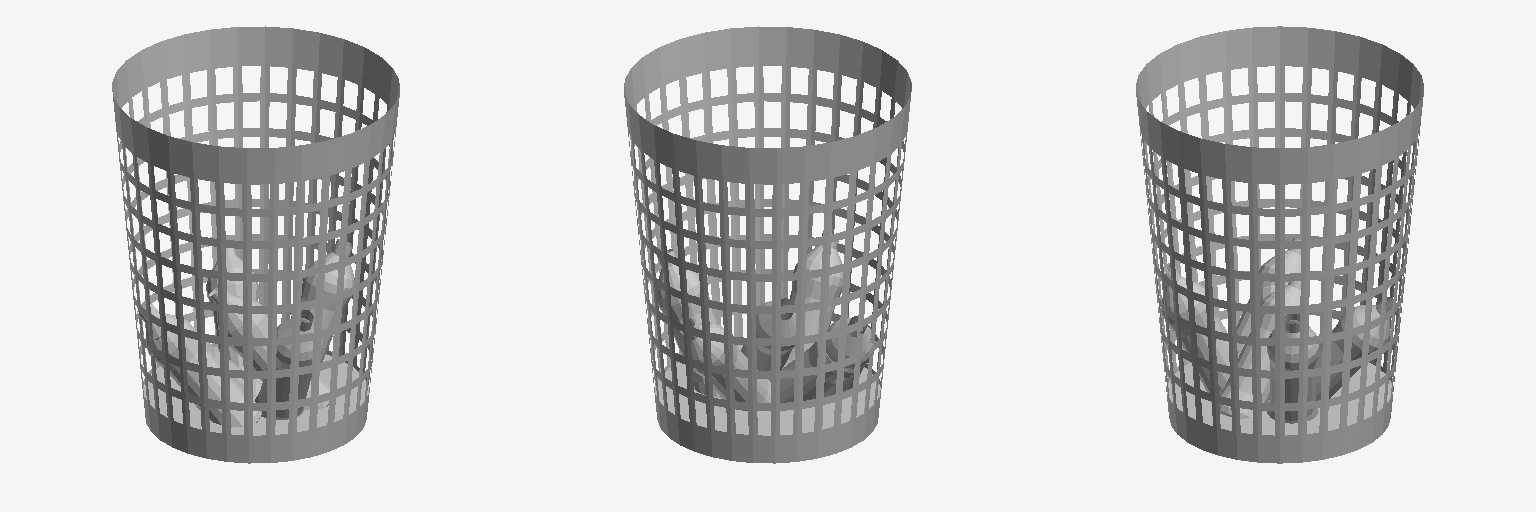
File: DustbinWithCan_000048.obj
The picture shows the model from 3 angles: view 1: azimuth 30°, elevation 25°; view 2: azimuth 150°, elevation 25°; view 3: azimuth 270°, elevation 25°; orthographic projection.
Visible parts, largest first — view 1: Cylinder, Plane.005, Plane.001, Plane.004, Plane.003, Plane.002; view 2: Cylinder, Plane.002, Plane.001, Plane.003, Plane.004, Plane.006, Plane.005; view 3: Cylinder, Plane.001, Plane.004, Plane.003, Plane.002, Plane.005.
Part boxes in pixels (x1,y1,x2,y2): Cylinder: (112,26,399,463); Plane.005: (137,302,261,426); Plane.001: (255,310,322,419); Plane.004: (209,287,329,409); Plane.003: (291,239,354,362); Plane.002: (206,248,262,382); Cylinder: (624,26,911,463); Plane.002: (680,318,770,410); Plane.001: (782,233,842,368); Plane.003: (657,249,720,397); Plane.004: (741,298,795,370); Plane.006: (768,325,871,402); Plane.005: (824,316,875,396); Cylinder: (1136,26,1423,463); Plane.001: (1162,265,1238,393); Plane.004: (1219,281,1300,418); Plane.003: (1267,313,1319,423); Plane.002: (1316,297,1396,400); Plane.005: (1237,238,1300,354).
Bounding box in the file's own units: 2.6 × 3.35 × 2.6.